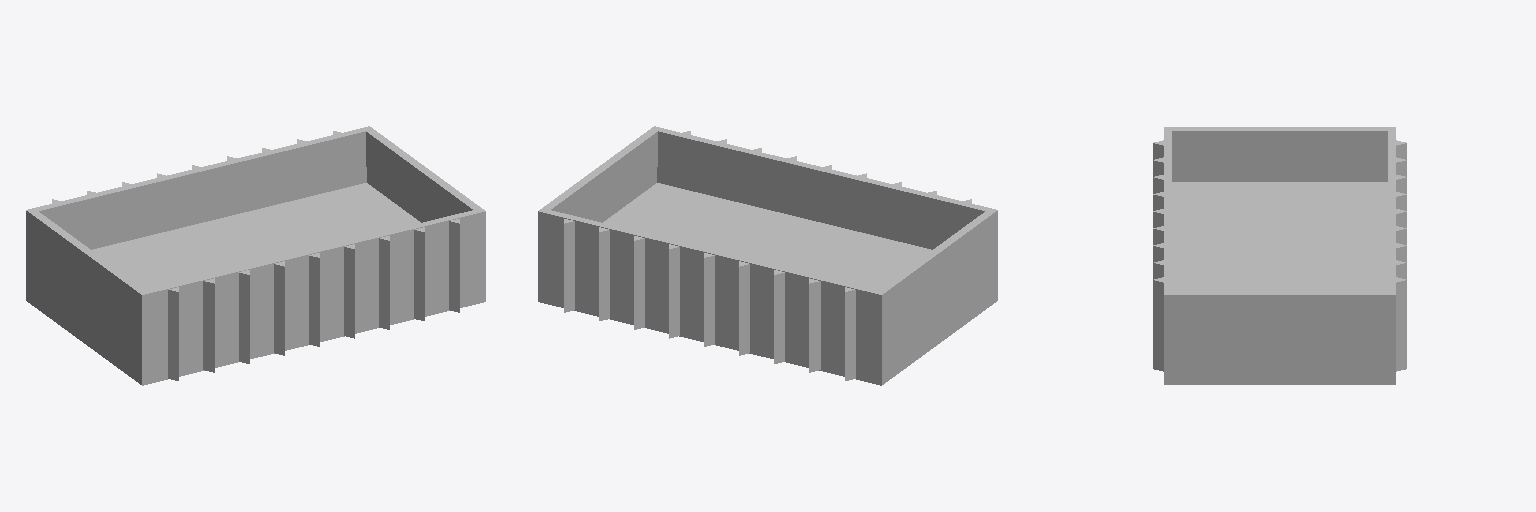
The model's file is grenade_crate.obj.
The picture shows the model from 3 angles: view 1: azimuth 30°, elevation 25°; view 2: azimuth 150°, elevation 25°; view 3: azimuth 270°, elevation 25°; orthographic projection.
Visible parts, largest first — view 1: Cube_Cube.001, Cylinder; view 2: Cube_Cube.001, Cylinder; view 3: Cube_Cube.001, Cylinder.
Part boxes in pixels (x1,y1,x2,y2): Cube_Cube.001: (26, 126, 485, 385); Cylinder: (52, 131, 459, 380); Cube_Cube.001: (538, 126, 997, 385); Cylinder: (564, 131, 971, 380); Cube_Cube.001: (1164, 127, 1395, 384); Cylinder: (1153, 140, 1406, 371).
Size of the model in its own units: 0.9655 by 0.2432 by 0.6195.